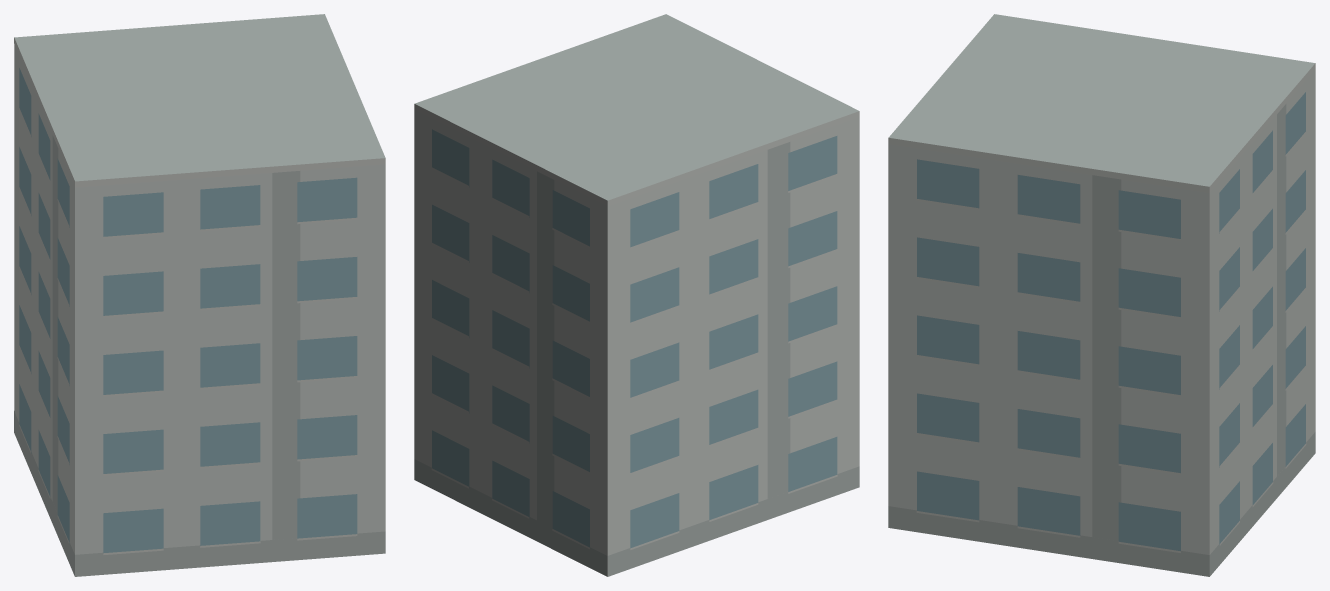
File: residential-b9a6e33e-d34d-4368-9ba5-178ce5d26936.glb
3 renders of one model, left to right at view 1: azimuth 30°, elevation 25°; view 2: azimuth 150°, elevation 25°; view 3: azimuth 270°, elevation 25°, orthographic. The views are drawn at different scales.
Parts seen in each view (by area): view 1: residential-b9a6e33e-d34d-4368-9ba5-178ce5d26936.tmp; view 2: residential-b9a6e33e-d34d-4368-9ba5-178ce5d26936.tmp; view 3: residential-b9a6e33e-d34d-4368-9ba5-178ce5d26936.tmp.
Boxes of the visible parts, x1=… form: residential-b9a6e33e-d34d-4368-9ba5-178ce5d26936.tmp: x1=14, y1=14, x2=385, y2=576; residential-b9a6e33e-d34d-4368-9ba5-178ce5d26936.tmp: x1=414, y1=14, x2=859, y2=576; residential-b9a6e33e-d34d-4368-9ba5-178ce5d26936.tmp: x1=888, y1=14, x2=1315, y2=576.
Bounding box in the file's own units: 14.49 × 15.25 × 15.14.
